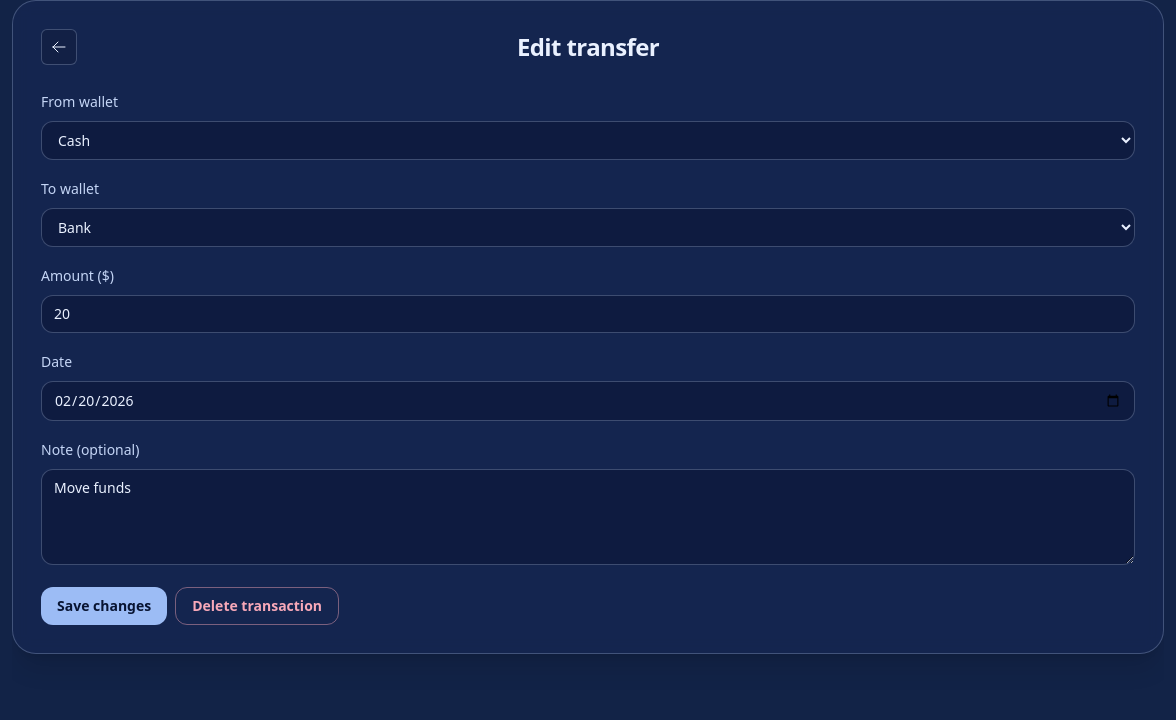
Test case: TransactionDetailPage › loads and edits transfer transactions while keeping linked rows consistent
Expected: the heading "Edit transfer" is shown, 517,30 -> 659,63
Expected: the dropdown labelled "To wallet" shows "Bank", 41,208 -> 1135,247
Select "Savings" in the dropdown labelled "From wallet". click: (588, 140)
box: 41,121 -> 1135,160
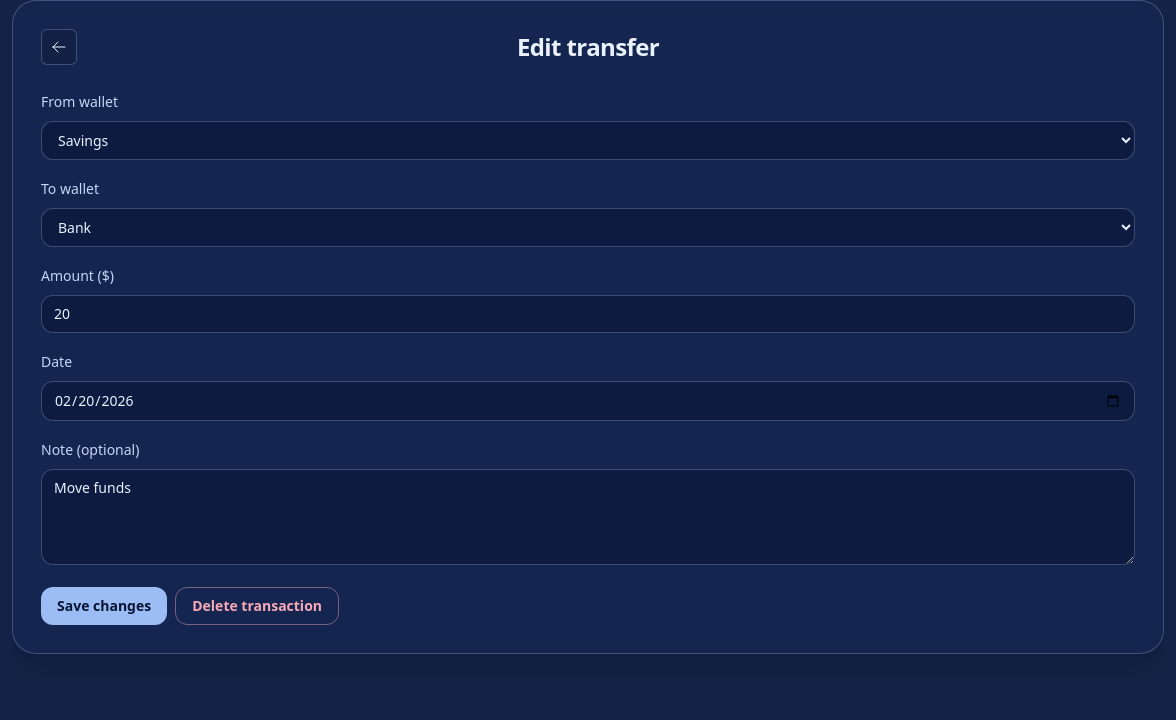
Replace the text in the field labelled "Amount ($)" with "30.00". click: (588, 314)
box: 41,295 -> 1135,333
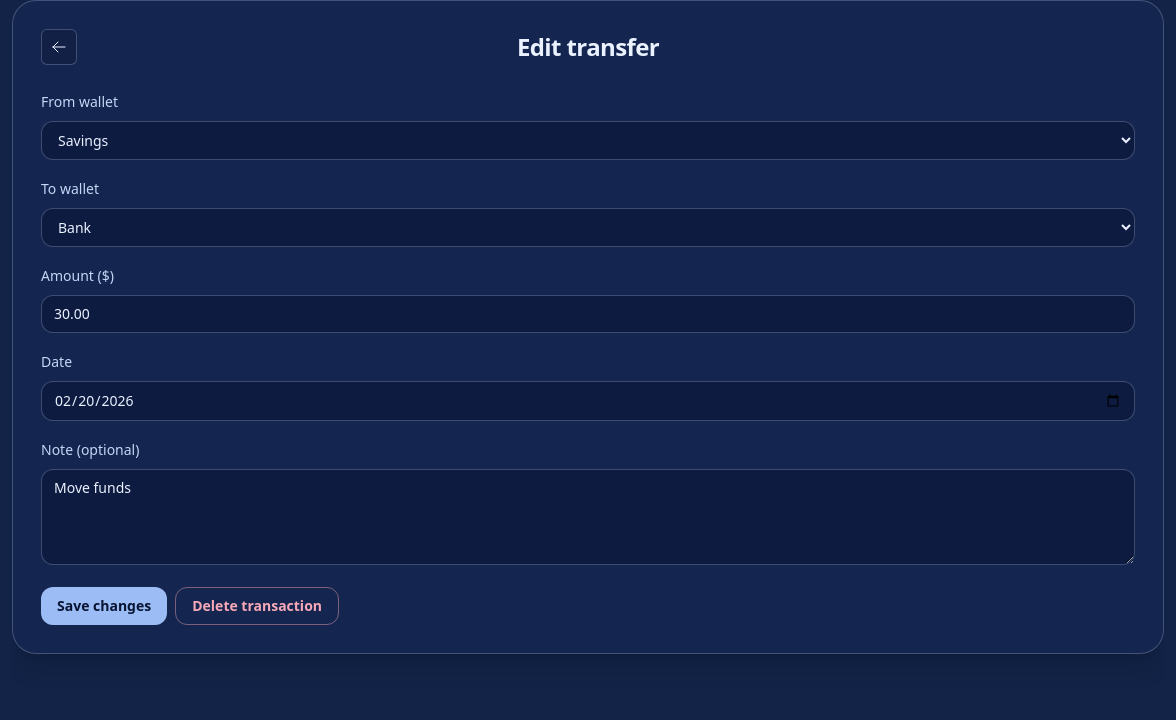
Type "2026-02-21" into the date field labelled "Date". click: (588, 401)
box: 41,381 -> 1135,421
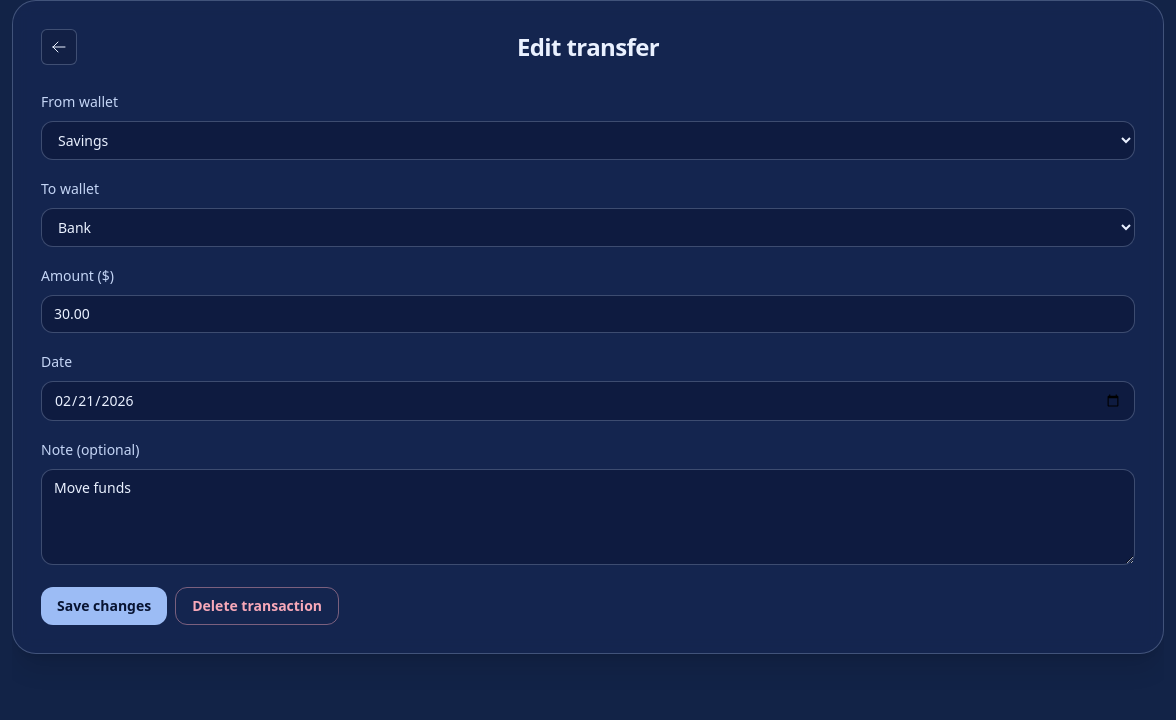
Replace the text in the text box labelled "Note (optional)" with "Updated move". click: (588, 517)
box: 41,469 -> 1135,565
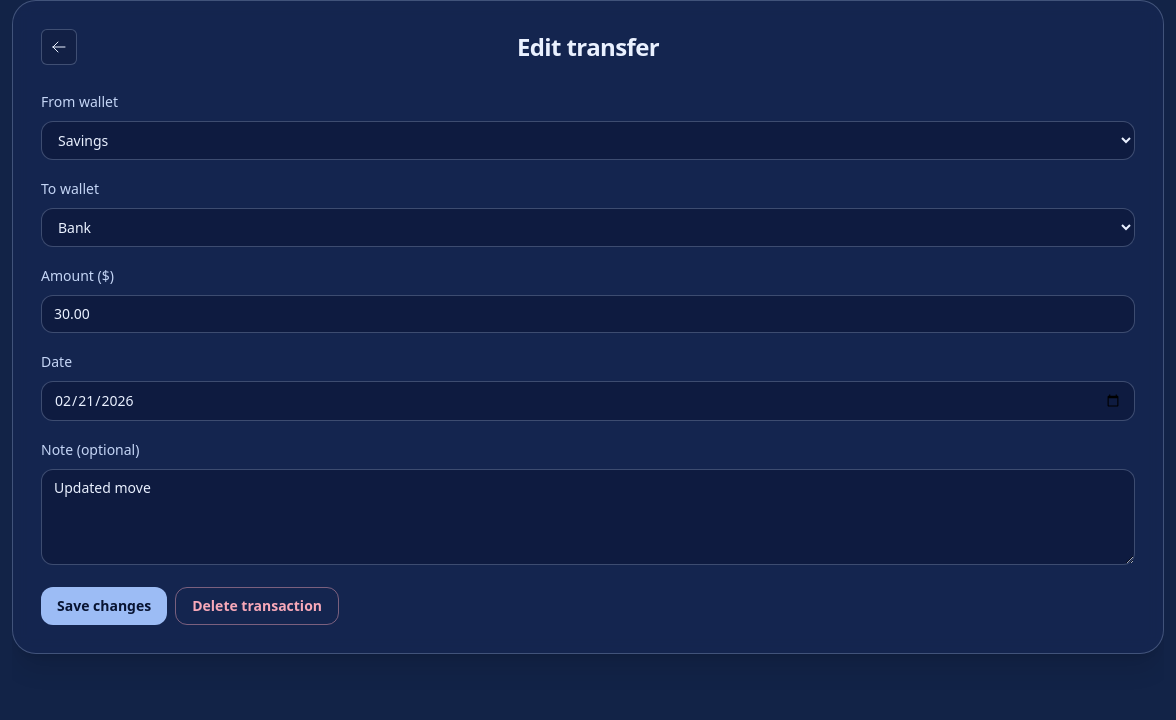
Click the button "Save changes". click: click(104, 606)
box: 41,587 -> 167,625
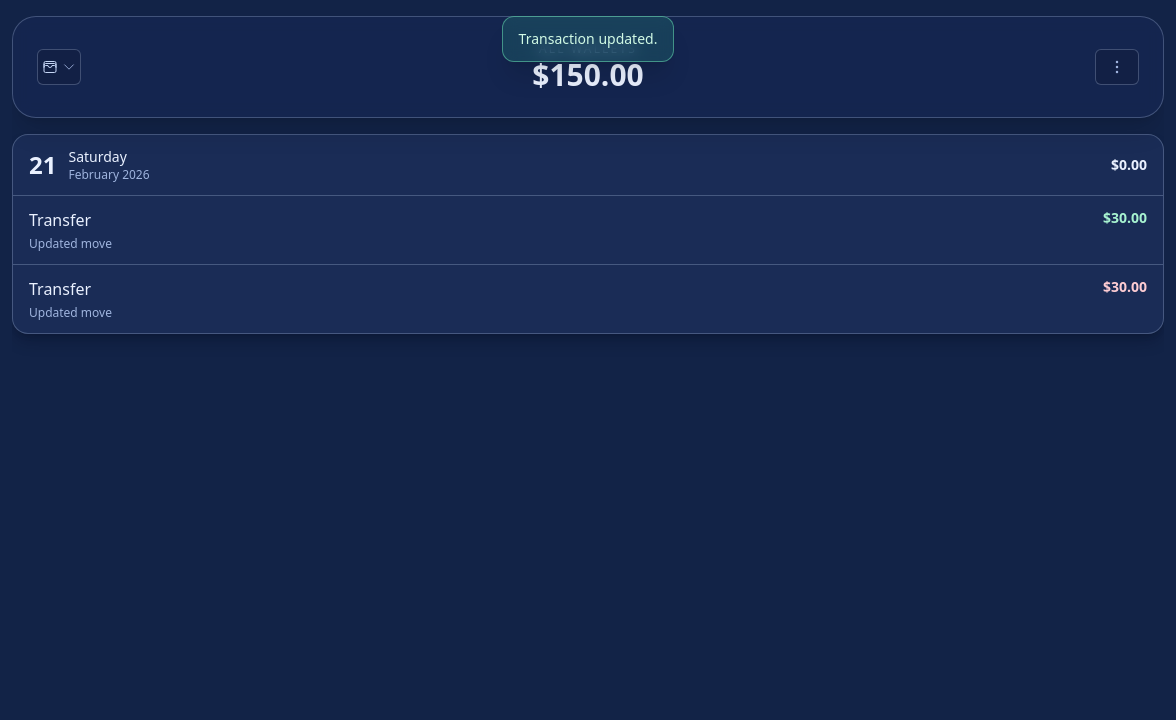
Expected: the text "Transaction updated." is shown, 502,16 -> 674,62
Expected: the text "$150.00" is shown, 532,54 -> 644,95
Expected: the 1st text "Updated move" is shown, 29,236 -> 112,252
